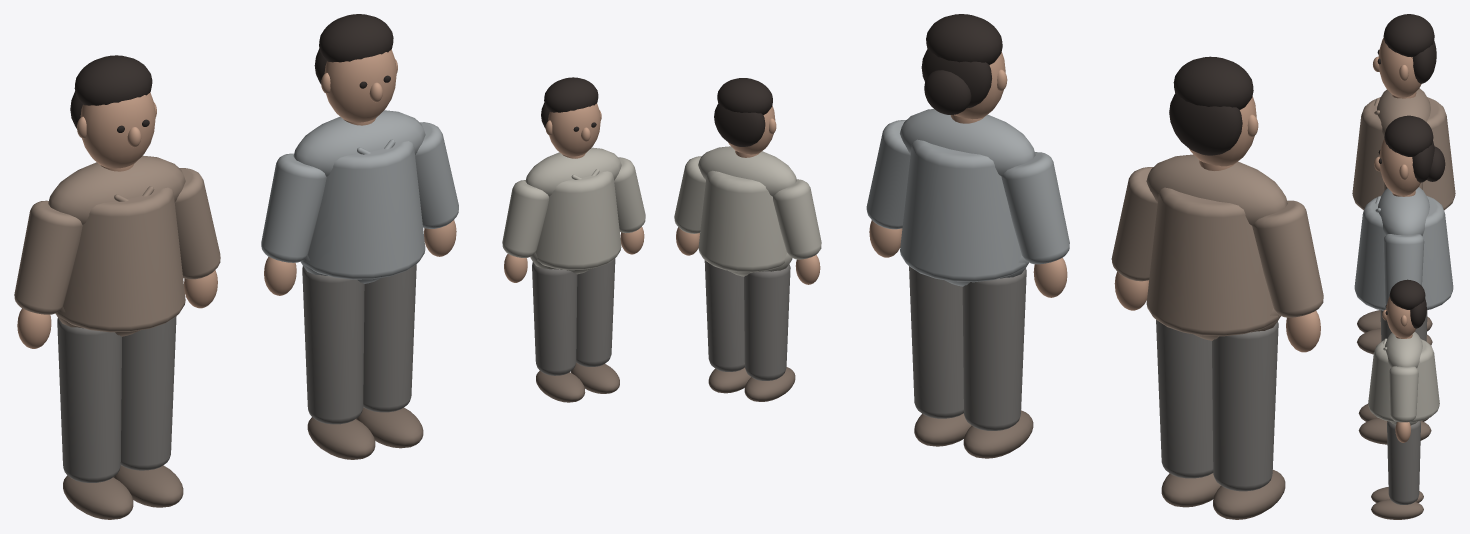
The model's file is nhan-vat-di-chua.glb.
3 renders of one model, left to right at view 1: azimuth 30°, elevation 25°; view 2: azimuth 150°, elevation 25°; view 3: azimuth 270°, elevation 25°, orthographic. The views are drawn at different scales.
Visible parts, largest first — view 1: Nam_than_ao, Nu_than_ao, Nam_ong_quan, Nu_ong_quan, Nam_ong_quan.001, Nu_ong_quan.001, Tre_em_than_ao, Nam_tay_ao, Nu_tay_ao, Nam_vai, Tre_em_ong_quan, Nu_vai (+22 smaller); view 2: Nam_than_ao, Nu_than_ao, Nam_ong_quan, Nu_ong_quan, Nam_ong_quan.001, Nu_ong_quan.001, Tre_em_than_ao, Nam_tay_ao, Nu_tay_ao, Nam_vai, Tre_em_ong_quan, Nu_vai (+25 smaller); view 3: Nu_than_ao, Nam_than_ao, Tre_em_than_ao, Tre_em_ong_quan.001, Nu_tay_ao.001, Nu_vai, Nam_toc, Nu_toc, Tre_em_tay_ao.001, Nam_dau, Nam_vai, Nu_dau (+15 smaller).
Boxes of the visible parts, x1,y1,x2,y2 form: Nam_than_ao: (55, 187, 185, 332); Nu_than_ao: (300, 141, 425, 279); Nam_ong_quan: (57, 318, 121, 482); Nu_ong_quan: (302, 266, 364, 424); Nam_ong_quan.001: (120, 316, 176, 470); Nu_ong_quan.001: (363, 264, 416, 412); Tre_em_than_ao: (535, 171, 621, 270); Nam_tay_ao: (14, 200, 82, 314); Nu_tay_ao: (261, 153, 326, 262); Nam_vai: (48, 155, 185, 224); Tre_em_ong_quan: (532, 262, 577, 375); Nu_vai: (293, 110, 425, 176); Nam_than_ao: (1146, 187, 1280, 336); Nu_than_ao: (900, 139, 1028, 282); Nam_ong_quan: (1212, 321, 1278, 491); Nu_ong_quan: (962, 268, 1026, 430); Nam_ong_quan.001: (1156, 320, 1213, 478); Nu_ong_quan.001: (909, 266, 963, 418); Tre_em_than_ao: (698, 170, 787, 272); Nam_tay_ao: (1252, 200, 1323, 317); Nu_tay_ao: (1001, 152, 1069, 264); Nam_vai: (1146, 154, 1287, 225); Tre_em_ong_quan: (744, 264, 790, 380); Nu_vai: (900, 109, 1035, 176); Nu_than_ao: (1354, 195, 1453, 310); Nam_than_ao: (1352, 97, 1455, 210); Tre_em_than_ao: (1368, 339, 1439, 422); Tre_em_ong_quan.001: (1387, 421, 1420, 504); Nu_tay_ao.001: (1383, 234, 1424, 304); Nu_vai: (1378, 187, 1429, 235); Nam_toc: (1383, 14, 1434, 57); Nu_toc: (1384, 115, 1433, 157); Tre_em_tay_ao.001: (1389, 366, 1418, 422); Nam_dau: (1378, 38, 1421, 97); Nam_vai: (1377, 88, 1430, 137); Nu_dau: (1379, 138, 1420, 195).
Size of what is drawn, in the model's own units: 2.63 by 1.76 by 0.5029.
